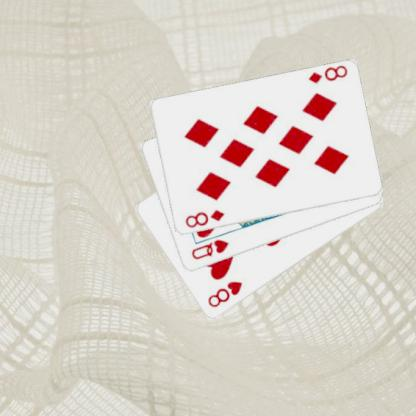8D: (182, 207, 226, 230), (305, 63, 349, 85)
8H: (204, 278, 244, 309)
QH: (188, 236, 230, 262)
